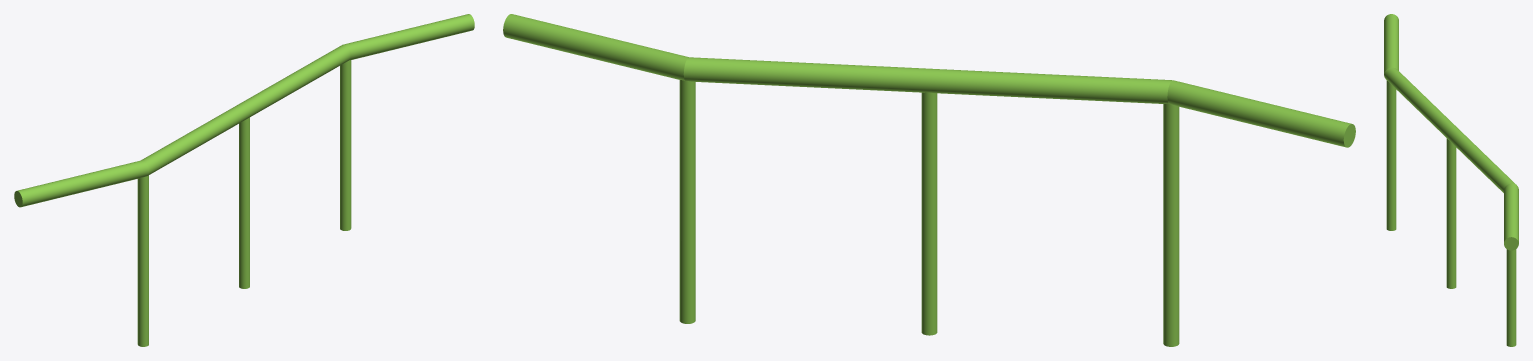
3 renders of one model, left to right at view 1: azimuth 30°, elevation 25°; view 2: azimuth 150°, elevation 25°; view 3: azimuth 270°, elevation 25°, orthographic. The views are drawn at different scales.
Parts seen in each view (by area): view 1: Group1; view 2: Group1; view 3: Group1.
Part boxes in pixels (x1=…): Group1: x1=14, y1=14, x2=474, y2=346; Group1: x1=503, y1=14, x2=1355, y2=346; Group1: x1=1384, y1=14, x2=1518, y2=346.
Bounding box in the file's own units: 180 × 60.83 × 46.06.
